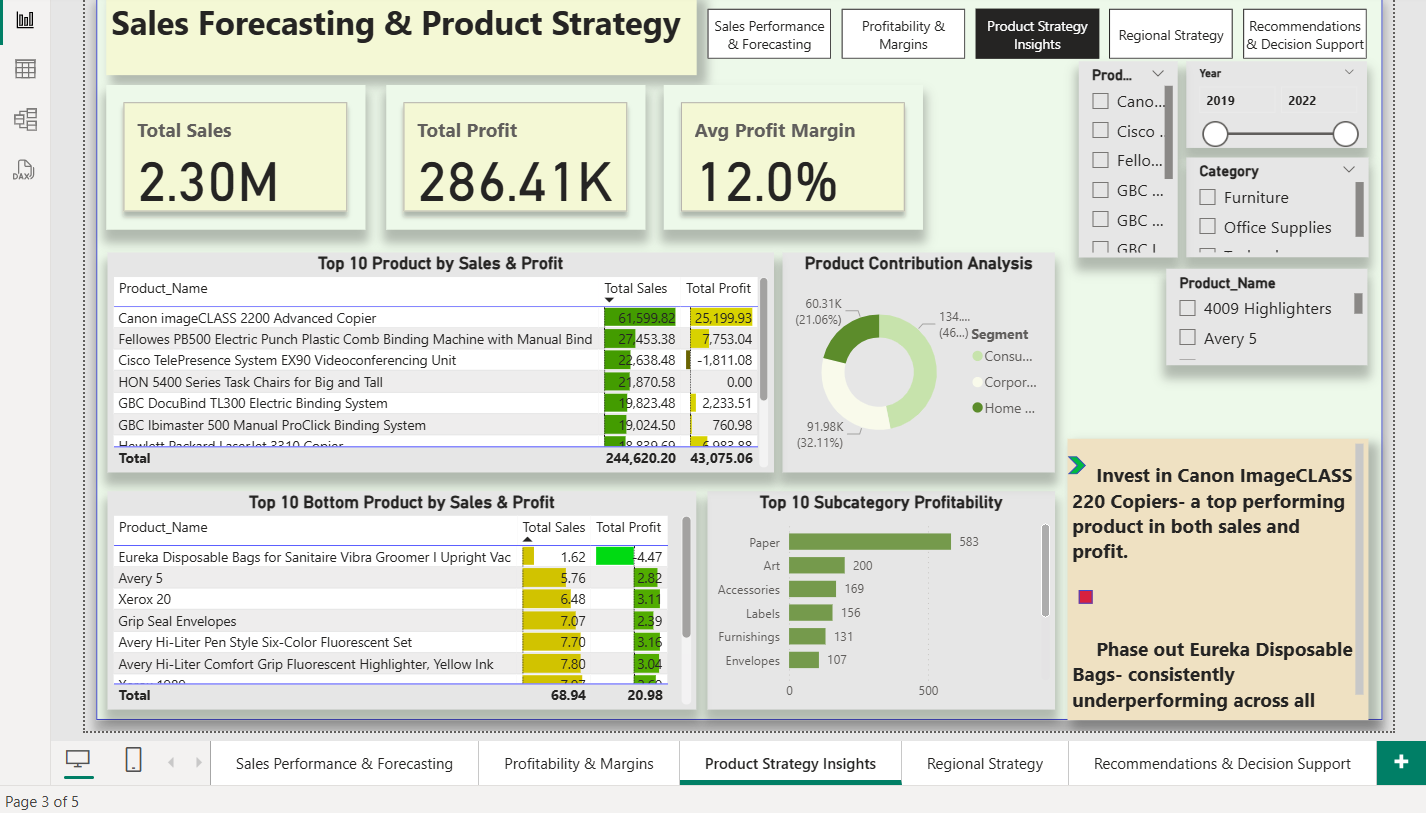

The dashboard page shown, as its layout file describes it:
{"tool":"powerbi","page":{"name":"Product Strategy Insights","canvas":[1280,720],"ordinal":2},"visuals":[{"type":"shape","box":[11,0,1258.3,709.2],"z":0},{"type":"group","id":"g1","title":"Group 1","box":[961.1,434.1,294.7,275.1],"z":0,"group":"g2"},{"type":"textbox","box":[961.1,434.1,294.7,275.1],"z":0,"group":"g1"},{"type":"textbox","box":[20.6,0,577.7,78.2],"z":1000},{"type":"shape","box":[961.1,450.9,18.1,17.9],"z":1000,"group":"g1"},{"type":"shape","box":[972.4,581.7,13.5,13.4],"z":1000,"group":"g2"},{"type":"cardVisual","fields":{"Data":["Superstore-Cleaned_Data.Total Sales"]},"box":[20.6,87.8,253.9,141.3],"z":2000},{"type":"cardVisual","fields":{"Data":["Superstore-Cleaned_Data.Total Profit"]},"box":[295,87.8,253.9,141.3],"z":3000},{"type":"cardVisual","fields":{"Data":["Superstore-Cleaned_Data.Avg Profit Margin"]},"box":[566.7,87.8,253.9,141.3],"z":4000},{"type":"pageNavigator","box":[609.3,13.7,646.3,49.4],"z":5000},{"type":"barChart","title":"Top 10 Subcategory Profitability","fields":{"Y":["Sum(Superstore-Cleaned_Data.Profit_Margin)"],"Category":["Superstore-Cleaned_Data.Subcategory"]},"box":[609,485.5,339.9,214],"z":6000},{"type":"donutChart","title":"Product Contribution Analysis","fields":{"Category":["Superstore-Cleaned_Data.Segment"],"Y":["Superstore-Cleaned_Data.Total Profit"]},"box":[682.3,251.9,266.6,215.2],"z":7000},{"type":"tableEx","title":"Top 10 Product by Sales & Profit","fields":{"Values":["Superstore-Cleaned_Data.Product_Name","Superstore-Cleaned_Data.Total Sales","Superstore-Cleaned_Data.Total Profit"]},"box":[22,251.9,651.8,215.2],"z":8000},{"type":"slicer","fields":{"Values":["Superstore-Cleaned_Data.Year"]},"box":[1077.2,64.5,177,85.1],"z":9000},{"type":"slicer","fields":{"Values":["Superstore-Cleaned_Data.Category"]},"box":[1077.2,159.2,178.4,97.4],"z":10000},{"type":"slicer","fields":{"Values":["Superstore-Cleaned_Data.Product_Name"]},"box":[972.2,64.8,96.6,192],"z":11000},{"type":"tableEx","title":"Top 10 Bottom Product by Sales & Profit","fields":{"Values":["Superstore-Cleaned_Data.Product_Name","Superstore-Cleaned_Data.Total Sales","Superstore-Cleaned_Data.Total Profit"]},"box":[22,485.5,576,214],"z":12000},{"type":"slicer","fields":{"Values":["Superstore-Cleaned_Data.Product_Name"]},"box":[1057.8,267.8,196.9,94.2],"z":13000},{"type":"group","id":"g2","title":"Group 2","box":[961.1,434.1,294.7,275.1],"z":13005}]}

Visuals, with their boxes on the page's 1280x720 design canvas (x1, y1, x2, y2). These are canvas units, not pixel positions in the 1426x813 screenshot, which may show the page scaled, cropped or inside an application window:
shape: 11,0,1269,709
"Group 1" group: 961,434,1256,709
textbox: 961,434,1256,709
textbox: 21,0,598,78
shape: 961,451,979,469
shape: 972,582,986,595
cardVisual - Superstore-Cleaned_Data.Total Sales: 21,88,274,229
cardVisual - Superstore-Cleaned_Data.Total Profit: 295,88,549,229
cardVisual - Superstore-Cleaned_Data.Avg Profit Margin: 567,88,821,229
pageNavigator: 609,14,1256,63
"Top 10 Subcategory Profitability" barChart: 609,486,949,700
"Product Contribution Analysis" donutChart: 682,252,949,467
"Top 10 Product by Sales & Profit" tableEx: 22,252,674,467
slicer - Superstore-Cleaned_Data.Year: 1077,64,1254,150
slicer - Superstore-Cleaned_Data.Category: 1077,159,1256,257
slicer - Superstore-Cleaned_Data.Product_Name: 972,65,1069,257
"Top 10 Bottom Product by Sales & Profit" tableEx: 22,486,598,700
slicer - Superstore-Cleaned_Data.Product_Name: 1058,268,1255,362
"Group 2" group: 961,434,1256,709
